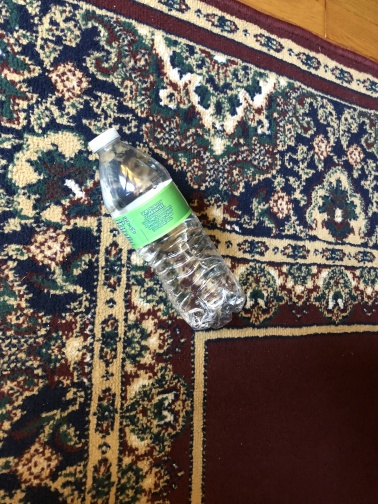bottle: (85, 126, 247, 333)
